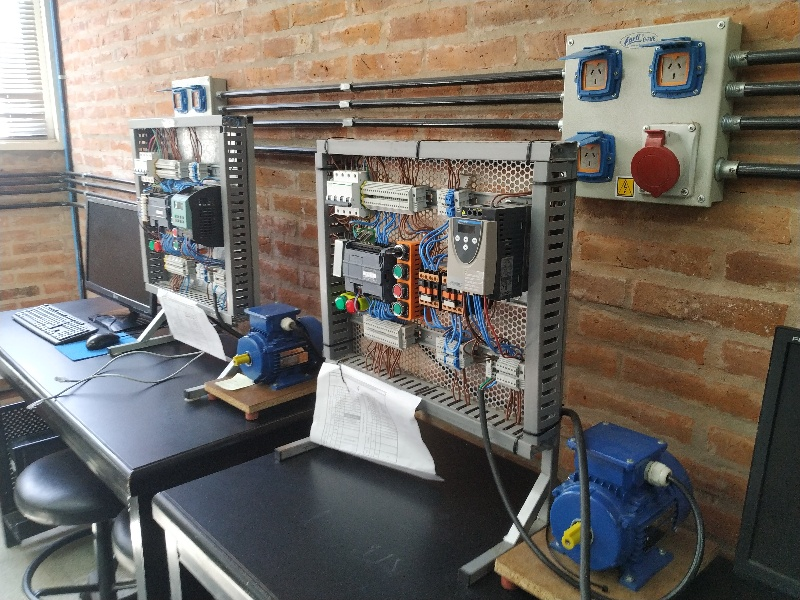Tablero 3: (126, 118, 250, 311)
Tablero 4: (311, 140, 550, 420)
